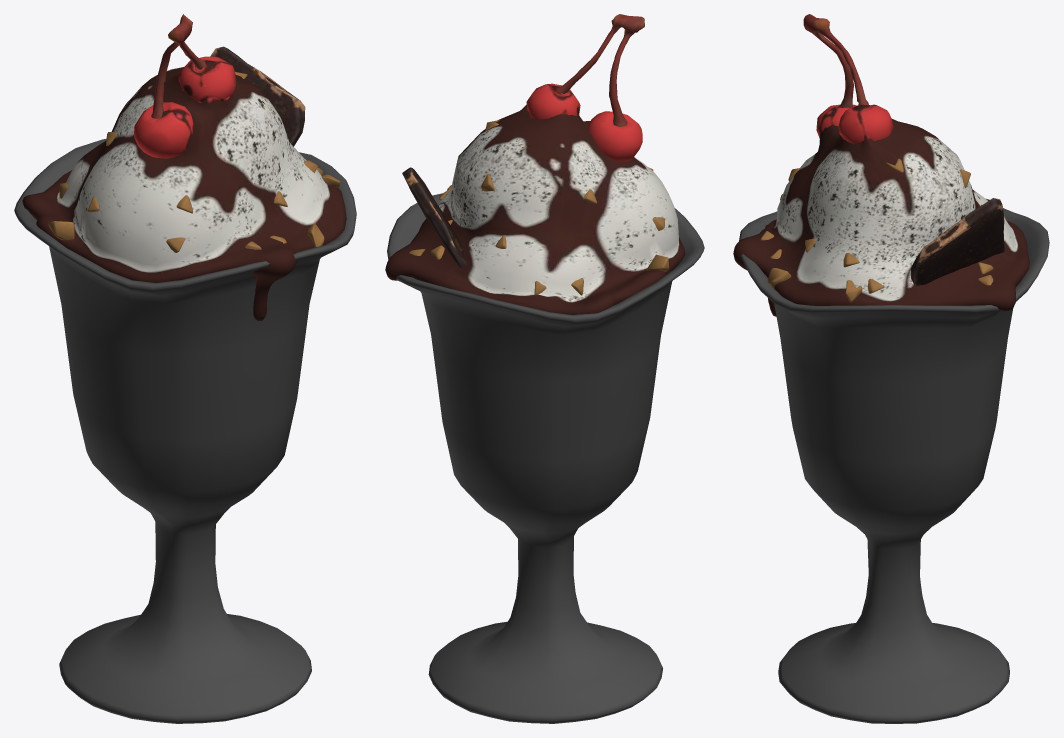
File: sundae_-_sketchfab_low_poly_challenge_desserts_Compressed-Ultimate.glb
The picture shows the model from 3 angles, left to right: view 1: azimuth 30°, elevation 25°; view 2: azimuth 150°, elevation 25°; view 3: azimuth 270°, elevation 25°; orthographic projection. The views are drawn at different scales.
Visible parts, largest first — view 1: Glass_LP_Glass_0, Ice_LP_Ice-Cream_0, GeoSphere003_Caramel_0; view 2: Glass_LP_Glass_0, Ice_LP_Ice-Cream_0, GeoSphere003_Caramel_0; view 3: Glass_LP_Glass_0, Ice_LP_Ice-Cream_0, GeoSphere003_Caramel_0.
Boxes of the visible parts, x1,y1,x2,y2 form: Glass_LP_Glass_0: (14,138,356,723); Ice_LP_Ice-Cream_0: (22,14,346,320); GeoSphere003_Caramel_0: (48,71,340,252); Glass_LP_Glass_0: (387,193,704,723); Ice_LP_Ice-Cream_0: (385,14,685,314); GeoSphere003_Caramel_0: (409,120,669,295); Glass_LP_Glass_0: (739,208,1049,723); Ice_LP_Ice-Cream_0: (733,14,1029,316); GeoSphere003_Caramel_0: (760,158,1007,302).
Size of the model in its own units: 0.1761 by 0.4004 by 0.1792.
3 materials, 3 textured.
